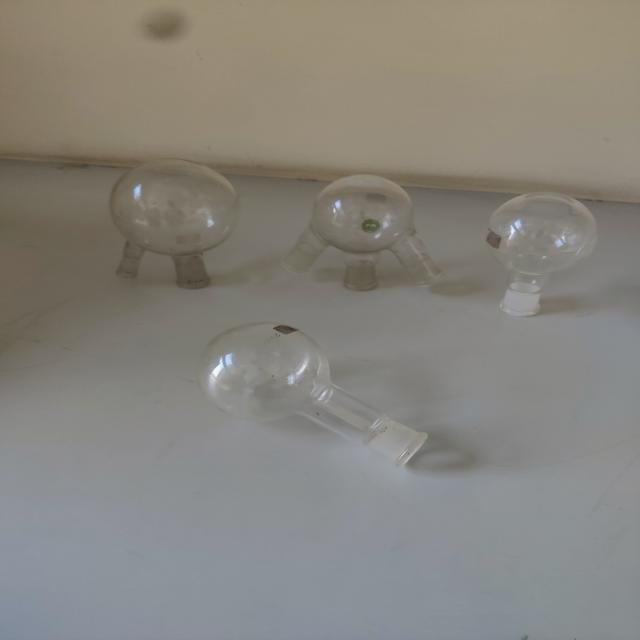Round_Bottom_Flask_Borosilicate_Glass_1_Neck: (186, 306, 452, 477), (478, 170, 616, 327)
Round_Bottom_Flask_Borosilicate_Glass_2_Neck: (73, 128, 260, 294)
Round_Bottom_Flask_Borosilicate_Glass_3_Neck: (276, 157, 456, 307)
